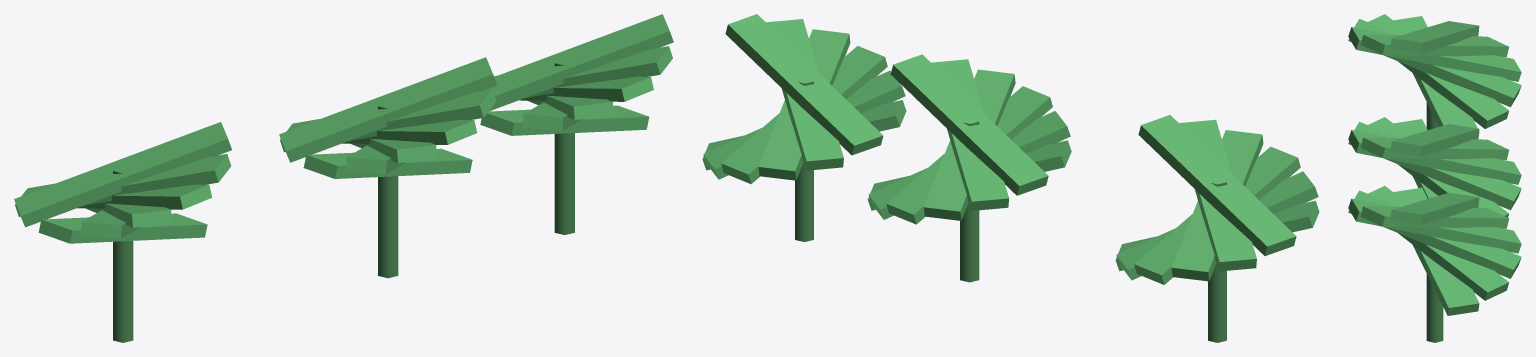
File: ferns.glb
The picture shows the model from 3 angles, left to right: view 1: azimuth 30°, elevation 25°; view 2: azimuth 150°, elevation 25°; view 3: azimuth 270°, elevation 25°; orthographic projection. The views are drawn at different scales.
Parts seen in each view (by area): view 1: ferns; view 2: ferns; view 3: ferns.
Boxes of the visible parts, left/top/right/bottom form: ferns: left=14, top=14, right=673, bottom=342; ferns: left=702, top=14, right=1319, bottom=342; ferns: left=1348, top=14, right=1521, bottom=342.
Bounding box in the file's own units: 2.13 × 0.6495 × 0.6408.
